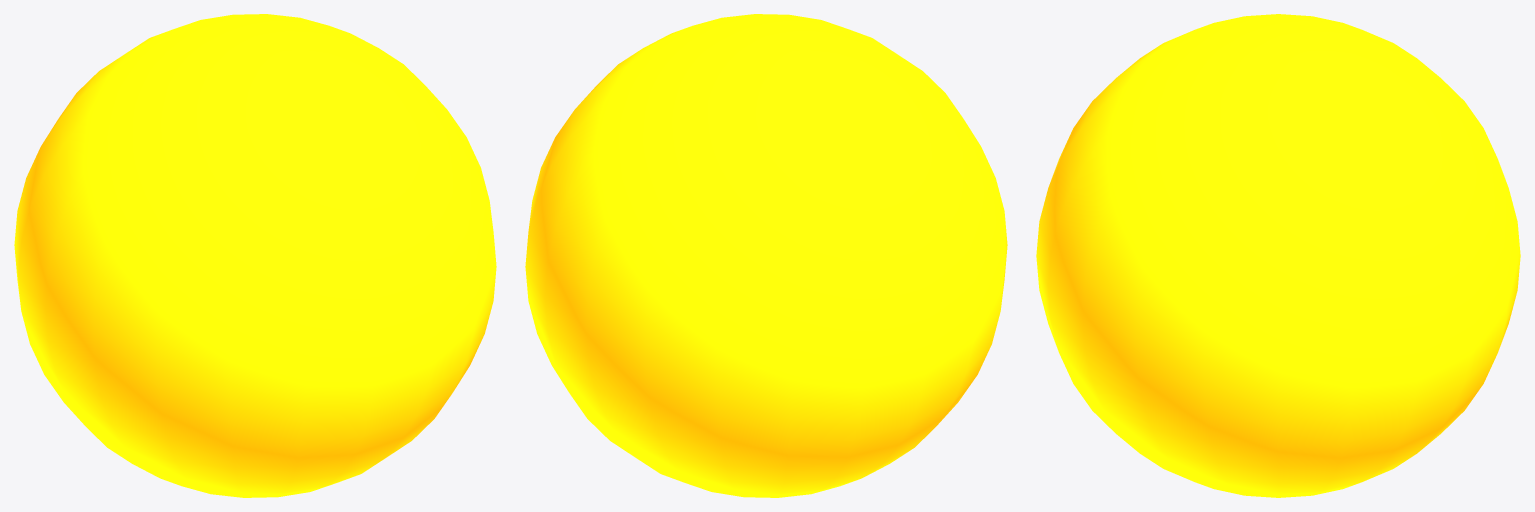
Rendered from L_D_SolarSystem_D.fbx.
The picture shows the model from 3 angles, left to right: view 1: azimuth 30°, elevation 25°; view 2: azimuth 150°, elevation 25°; view 3: azimuth 270°, elevation 25°; orthographic projection.
Parts seen in each view (by area): view 1: solarsystm; view 2: solarsystm; view 3: solarsystm.
Part boxes in pixels (x1,y1,x2,y2): solarsystm: [14, 14, 496, 497]; solarsystm: [525, 14, 1007, 497]; solarsystm: [1036, 14, 1520, 497].
Size of the model in its own units: 296 by 296 by 296.
